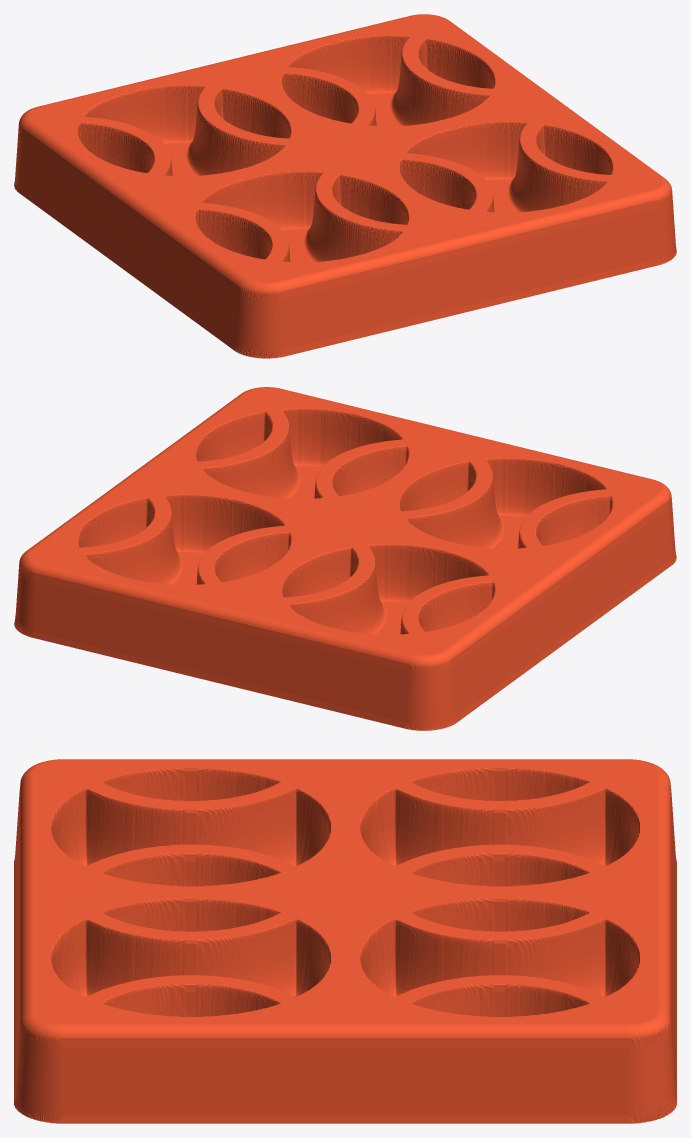
File: mold.glb
3 views of the same model, one above another, from view 1: azimuth 30°, elevation 25°; view 2: azimuth 150°, elevation 25°; view 3: azimuth 270°, elevation 25° (orthographic). The views are drawn at different scales.
Visible parts, largest first — view 1: geometry_0; view 2: geometry_0; view 3: geometry_0.
Part boxes in pixels (x1,y1,x2,y2): geometry_0: (14,14,676,358); geometry_0: (14,387,676,730); geometry_0: (14,759,676,1123).
Bounding box in the file's own units: 0.1218 × 0.0185 × 0.1218.
